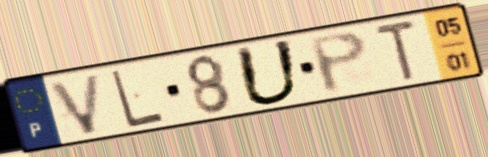8: (184, 53, 235, 116)
L: (108, 67, 168, 131)
P: (304, 28, 371, 97)
T: (371, 17, 420, 85)
U: (232, 37, 304, 109)
V: (45, 70, 104, 138)
